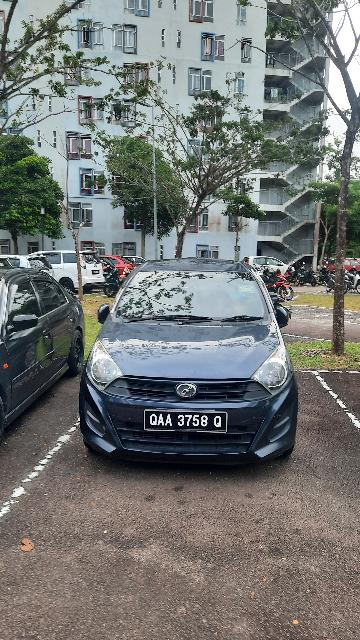License_Plate: (142, 408, 230, 436)
car: (77, 248, 302, 470), (2, 251, 91, 430)
